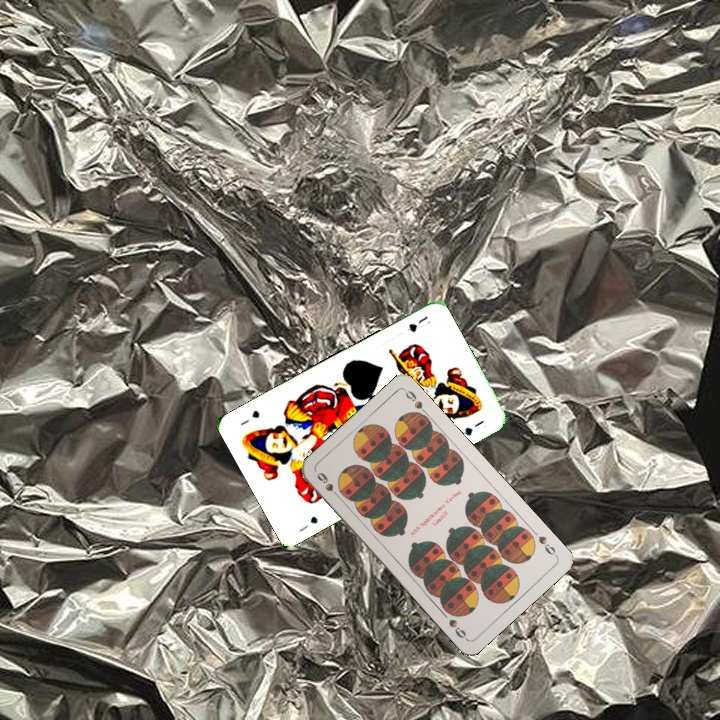GU: (403, 312, 434, 335), (295, 512, 320, 535)
S9: (312, 468, 343, 502), (534, 532, 560, 559)
